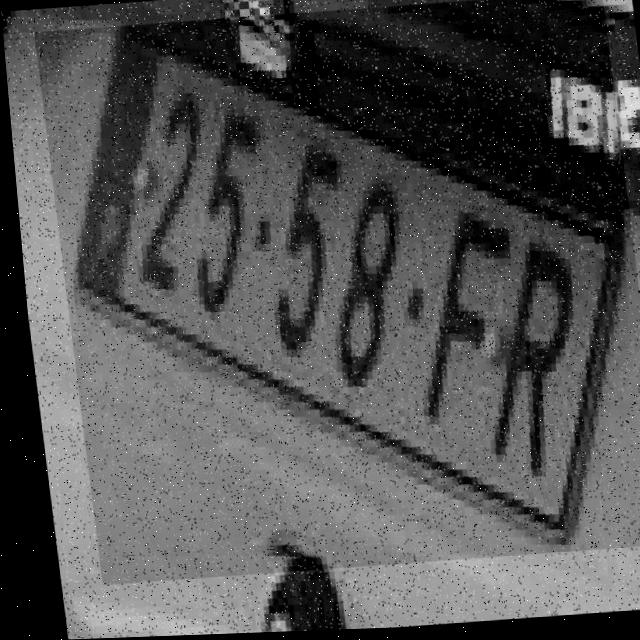LicensePlate: (32, 0, 640, 586)
